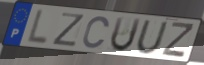C: (81, 15, 111, 51)
L: (25, 8, 50, 47)
U: (135, 19, 170, 56), (109, 16, 143, 54)
Z: (160, 21, 196, 60), (50, 12, 87, 48)
